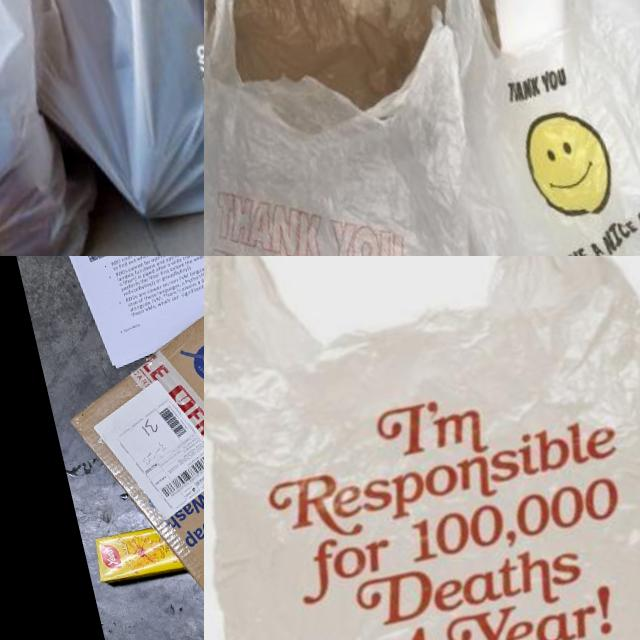caixinha: (90, 520, 186, 591)
papel: (0, 256, 204, 385)
papelão: (30, 256, 204, 640)
sacola plástica: (204, 256, 640, 640), (204, 0, 541, 256), (417, 0, 640, 256), (0, 0, 204, 256), (204, 0, 545, 132), (117, 0, 204, 256), (0, 0, 83, 256)
